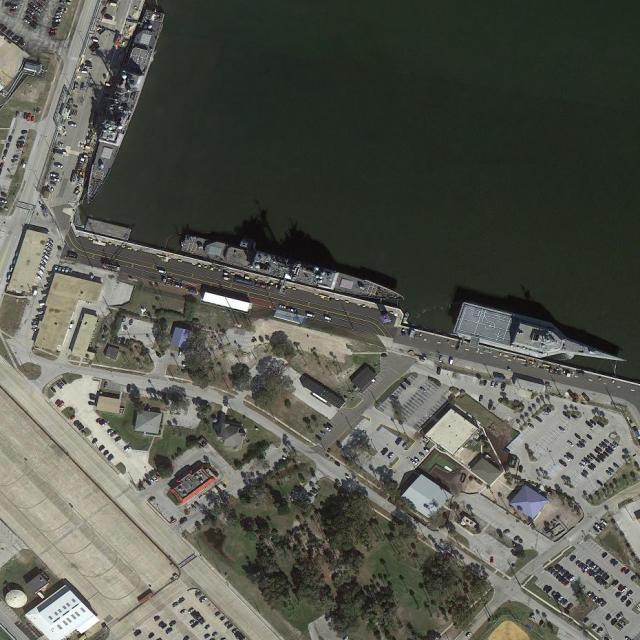Cruiser: (180, 234, 410, 308), (81, 7, 163, 208)
Frigate: (455, 301, 630, 378)
